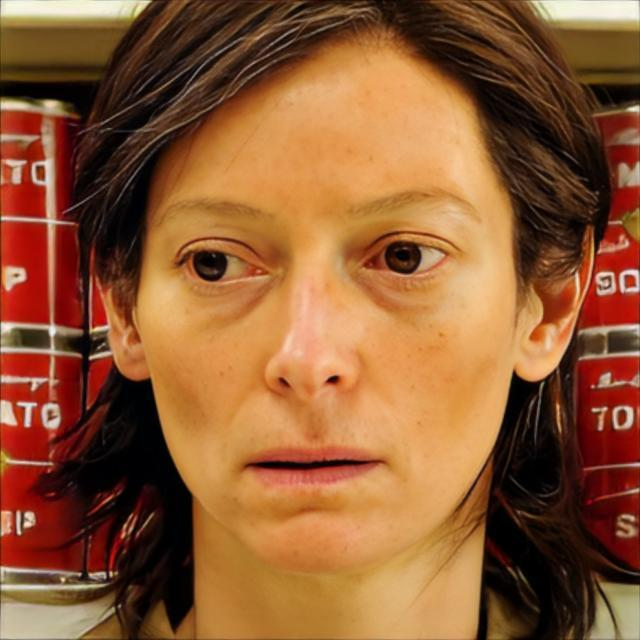fear: (138, 22, 516, 576)
